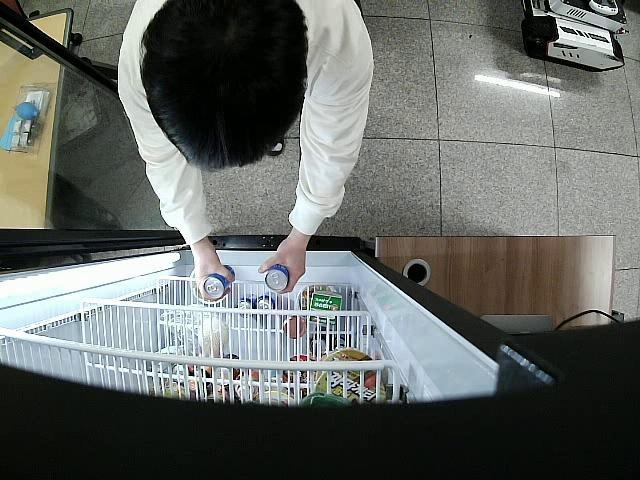15_letsbe: (203, 266, 235, 299), (264, 264, 290, 292)
